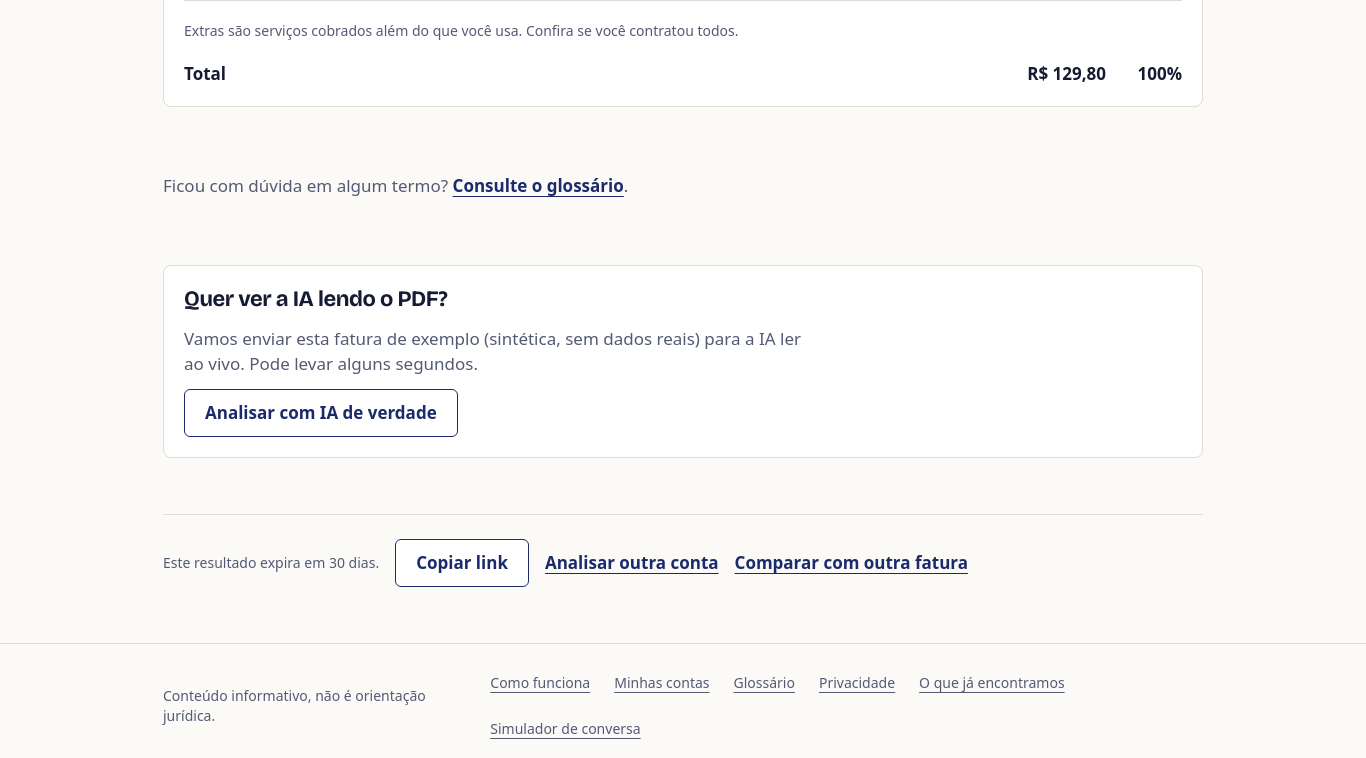
Test: RF01: extração ao vivo do exemplo › envia o PDF do exemplo por upload com consent e navega
(page scrolled)
Click the button "Analisar com IA de verdade". click: click(321, 412)
box: [184,388,458,436]
(page scrolled)
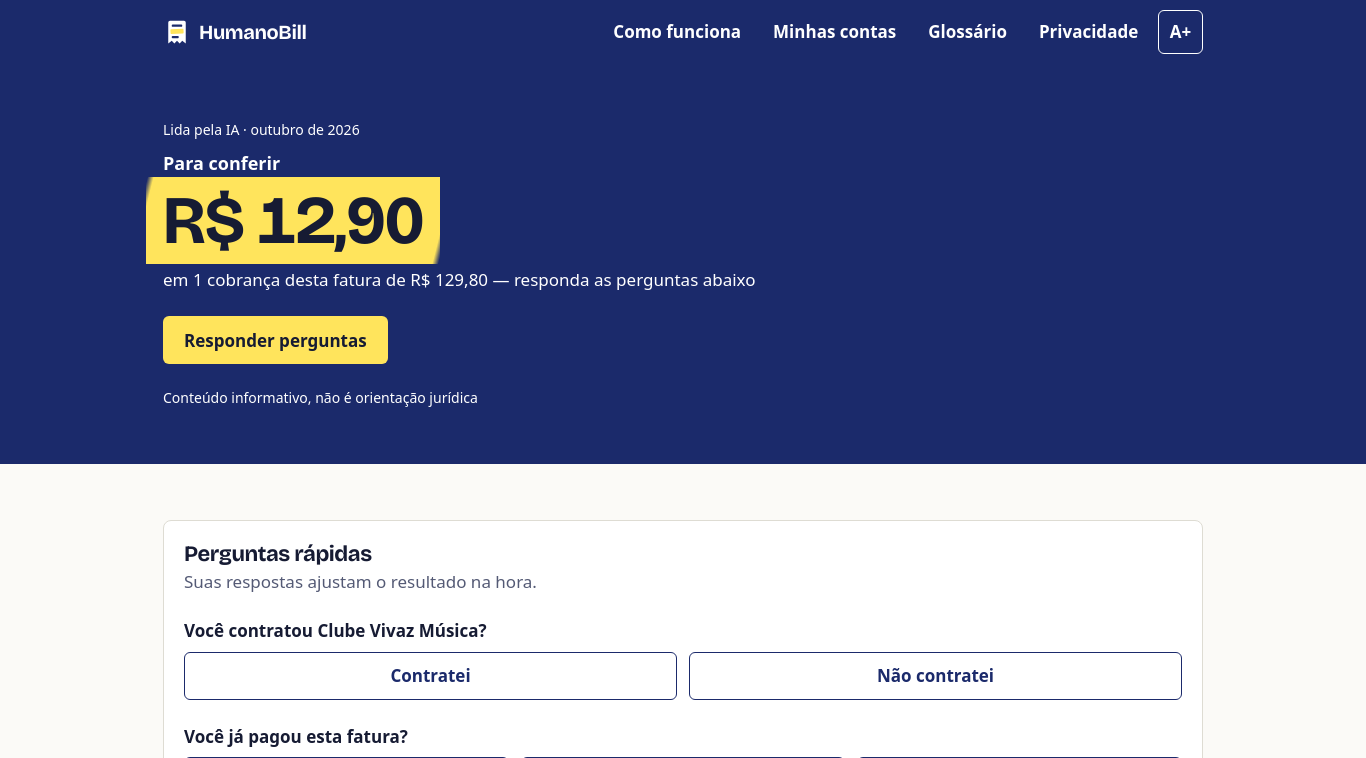
Check: the text "Lida pela IA · outubro de 2026" is shown, box [163,120,360,139]
Check: the button "Analisar com IA de verdade" is gone
